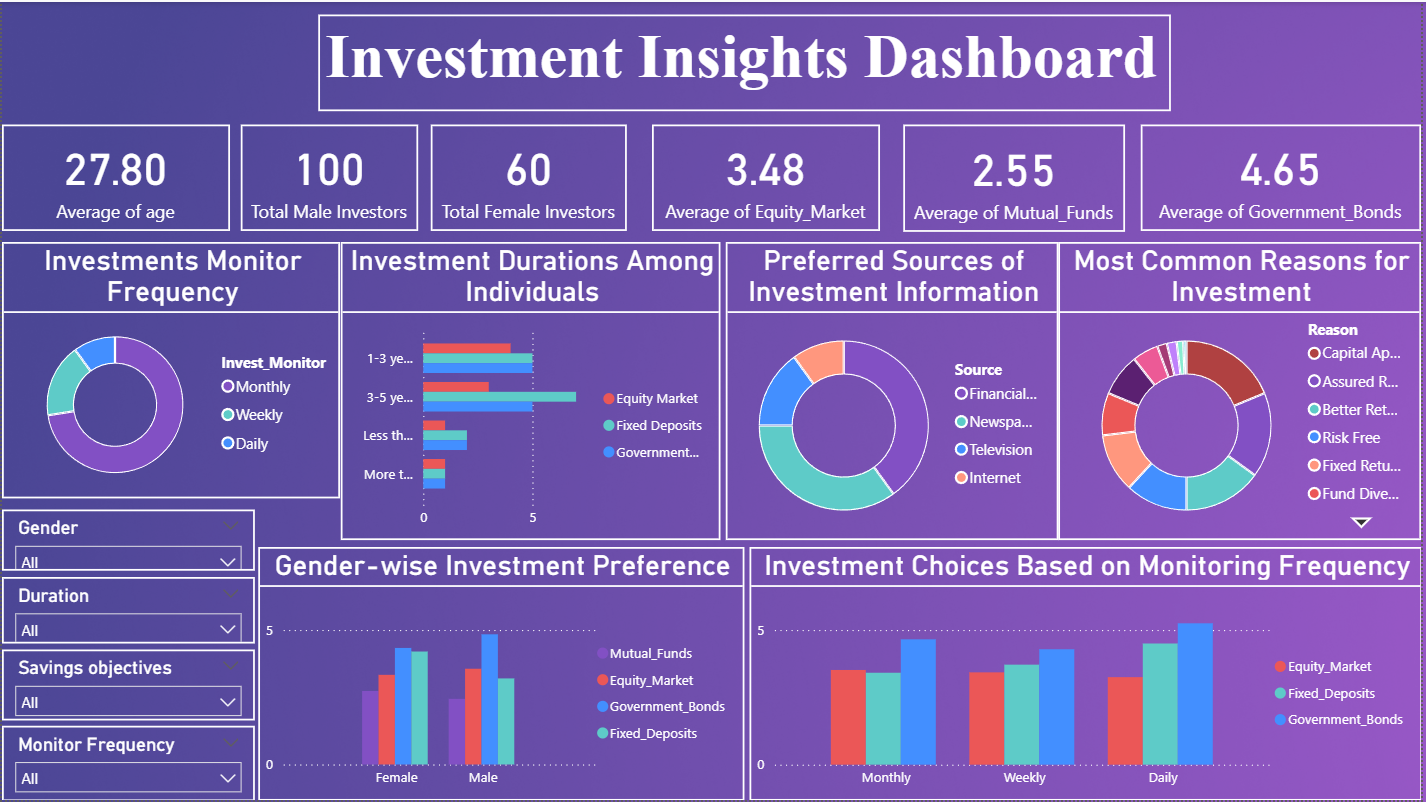

The dashboard page shown, as its layout file describes it:
{"tool":"powerbi","page":{"name":"Task 7(Dashboard)","canvas":[1280,720],"ordinal":6},"visuals":[{"type":"slicer","fields":{"Values":["Data_set 2.What are your savings objectives?"]},"box":[0,584,227.6,63.6],"z":0},{"type":"slicer","fields":{"Values":["Data_set 2.Invest_Monitor"]},"box":[0,652.2,227.8,67.8],"z":1000},{"type":"slicer","fields":{"Values":["Data_set 2.gender"]},"box":[0,457.2,227.6,55.2],"z":2000},{"type":"slicer","fields":{"Values":["Data_set 2.Duration"]},"box":[0,518,227.6,59.6],"z":3000},{"type":"clusteredColumnChart","title":"Investment Choices Based on Monitoring Frequency","fields":{"Category":["Data_set 2.Invest_Monitor"],"Y":["Avg(Data_set 2.Equity_Market)","Avg(Data_set 2.Fixed_Deposits)","Avg(Data_set 2.Government_Bonds)"]},"box":[673.8,491.6,606.5,228.7],"z":4000},{"type":"clusteredColumnChart","title":"Gender-wise Investment Preference","fields":{"Category":["Data_set 2.gender"],"Y":["Avg(Data_set 2.Mutual_Funds)","Avg(Data_set 2.Equity_Market)","Avg(Data_set 2.Government_Bonds)","Avg(Data_set 2.Fixed_Deposits)"]},"box":[231,491.5,438,228.5],"z":5000},{"type":"donutChart","title":"Preferred Sources of Investment Information","fields":{"Category":["Data_set 2.Source"],"Y":["CountNonNull(Data_set 2.Source)"]},"box":[652.5,216.2,300,268.8],"z":6000},{"type":"donutChart","title":"Most Common Reasons for Investment","fields":{"Category":["Data_set 2.Reason"],"Y":["CountNonNull(Data_set 2.Reason)"]},"box":[952.5,216.2,327.5,268.8],"z":7000},{"type":"clusteredBarChart","title":"Investment Durations Among Individuals","fields":{"Category":["Data_set 2.Duration"],"Y":["Count(Data_set 2.Equity_Market)","Count(Data_set 2.Fixed_Deposits)","Count(Data_set 2.Government_Bonds)"]},"box":[305,216.2,342.5,268.8],"z":8000},{"type":"donutChart","title":"Investments Monitor Frequency","fields":{"Category":["Data_set 2.Invest_Monitor"],"Y":["CountNonNull(Data_set 2.Invest_Monitor)"]},"box":[0,216.2,305,231.2],"z":9000},{"type":"card","fields":{"Values":["Avg(Data_set 2.age)"]},"box":[0,110,205.7,95.7],"z":10000},{"type":"card","fields":{"Values":["CountNonNull(Data_set 2.gender)"]},"box":[215.7,110,160,95.7],"z":11000},{"type":"card","fields":{"Values":["CountNonNull(Data_set 2.gender)"]},"box":[387.1,110,177.1,95.7],"z":12000},{"type":"card","fields":{"Values":["Avg(Data_set 2.Equity_Market)"]},"box":[585.7,110,205.7,95.7],"z":13000},{"type":"card","fields":{"Values":["Avg(Data_set 2.Mutual_Funds)"]},"box":[812.9,110,200,97.1],"z":14000},{"type":"card","fields":{"Values":["Avg(Data_set 2.Government_Bonds)"]},"box":[1027.1,110,252.9,95.7],"z":15000},{"type":"textbox","box":[285.7,11.4,768.6,87.1],"z":16000}]}

Visuals, with their boxes in screenshot pixels (x1, y1, x2, y2), scaled from the page's 1280x720 canvas onto the 1426x802 screenshot:
slicer - Data_set 2.What are your savings objectives?: x1=0 y1=651 x2=254 y2=721
slicer - Data_set 2.Invest_Monitor: x1=0 y1=726 x2=254 y2=801
slicer - Data_set 2.gender: x1=0 y1=509 x2=254 y2=571
slicer - Data_set 2.Duration: x1=0 y1=577 x2=254 y2=643
"Investment Choices Based on Monitoring Frequency" clusteredColumnChart: x1=751 y1=548 x2=1425 y2=801
"Gender-wise Investment Preference" clusteredColumnChart: x1=257 y1=547 x2=745 y2=801
"Preferred Sources of Investment Information" donutChart: x1=727 y1=241 x2=1061 y2=540
"Most Common Reasons for Investment" donutChart: x1=1061 y1=241 x2=1425 y2=540
"Investment Durations Among Individuals" clusteredBarChart: x1=340 y1=241 x2=721 y2=540
"Investments Monitor Frequency" donutChart: x1=0 y1=241 x2=340 y2=498
card - Avg(Data_set 2.age): x1=0 y1=123 x2=229 y2=229
card - CountNonNull(Data_set 2.gender): x1=240 y1=123 x2=419 y2=229
card - CountNonNull(Data_set 2.gender): x1=431 y1=123 x2=629 y2=229
card - Avg(Data_set 2.Equity_Market): x1=653 y1=123 x2=882 y2=229
card - Avg(Data_set 2.Mutual_Funds): x1=906 y1=123 x2=1128 y2=231
card - Avg(Data_set 2.Government_Bonds): x1=1144 y1=123 x2=1425 y2=229
textbox: x1=318 y1=13 x2=1175 y2=110
